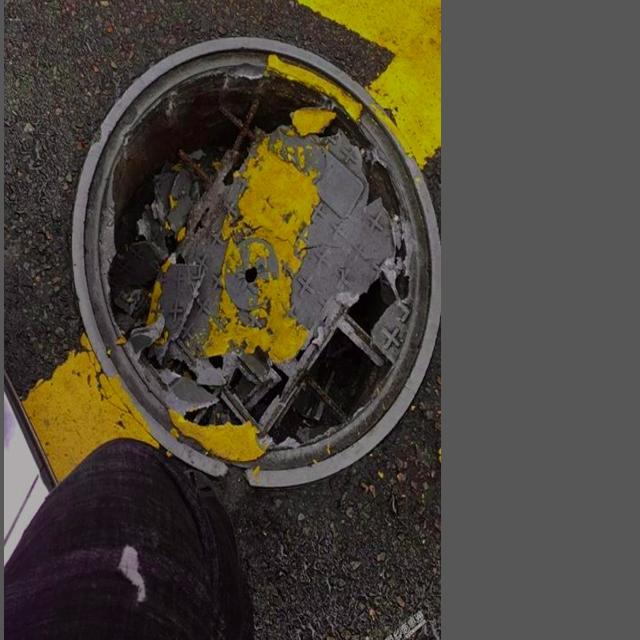broke: (52, 4, 423, 482)
